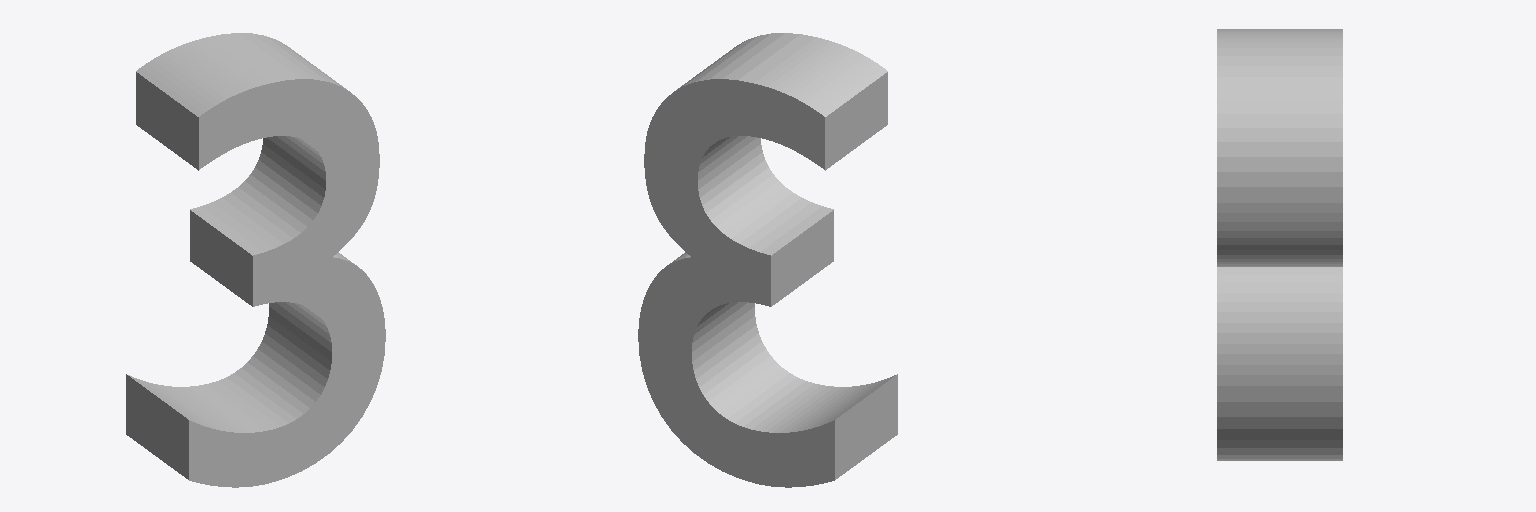
File: threeNoHyph.obj
3 views of the same model, side by side, from view 1: azimuth 30°, elevation 25°; view 2: azimuth 150°, elevation 25°; view 3: azimuth 270°, elevation 25° (orthographic).
Parts seen in each view (by area): view 1: Blue_Team__Text; view 2: Blue_Team__Text; view 3: Blue_Team__Text.
Boxes of the visible parts, x1,y1,x2,y2 form: Blue_Team__Text: [126, 33, 385, 487]; Blue_Team__Text: [638, 33, 897, 487]; Blue_Team__Text: [1217, 29, 1342, 460].
Bounding box in the file's own units: 0.36 × 0.7 × 0.2.